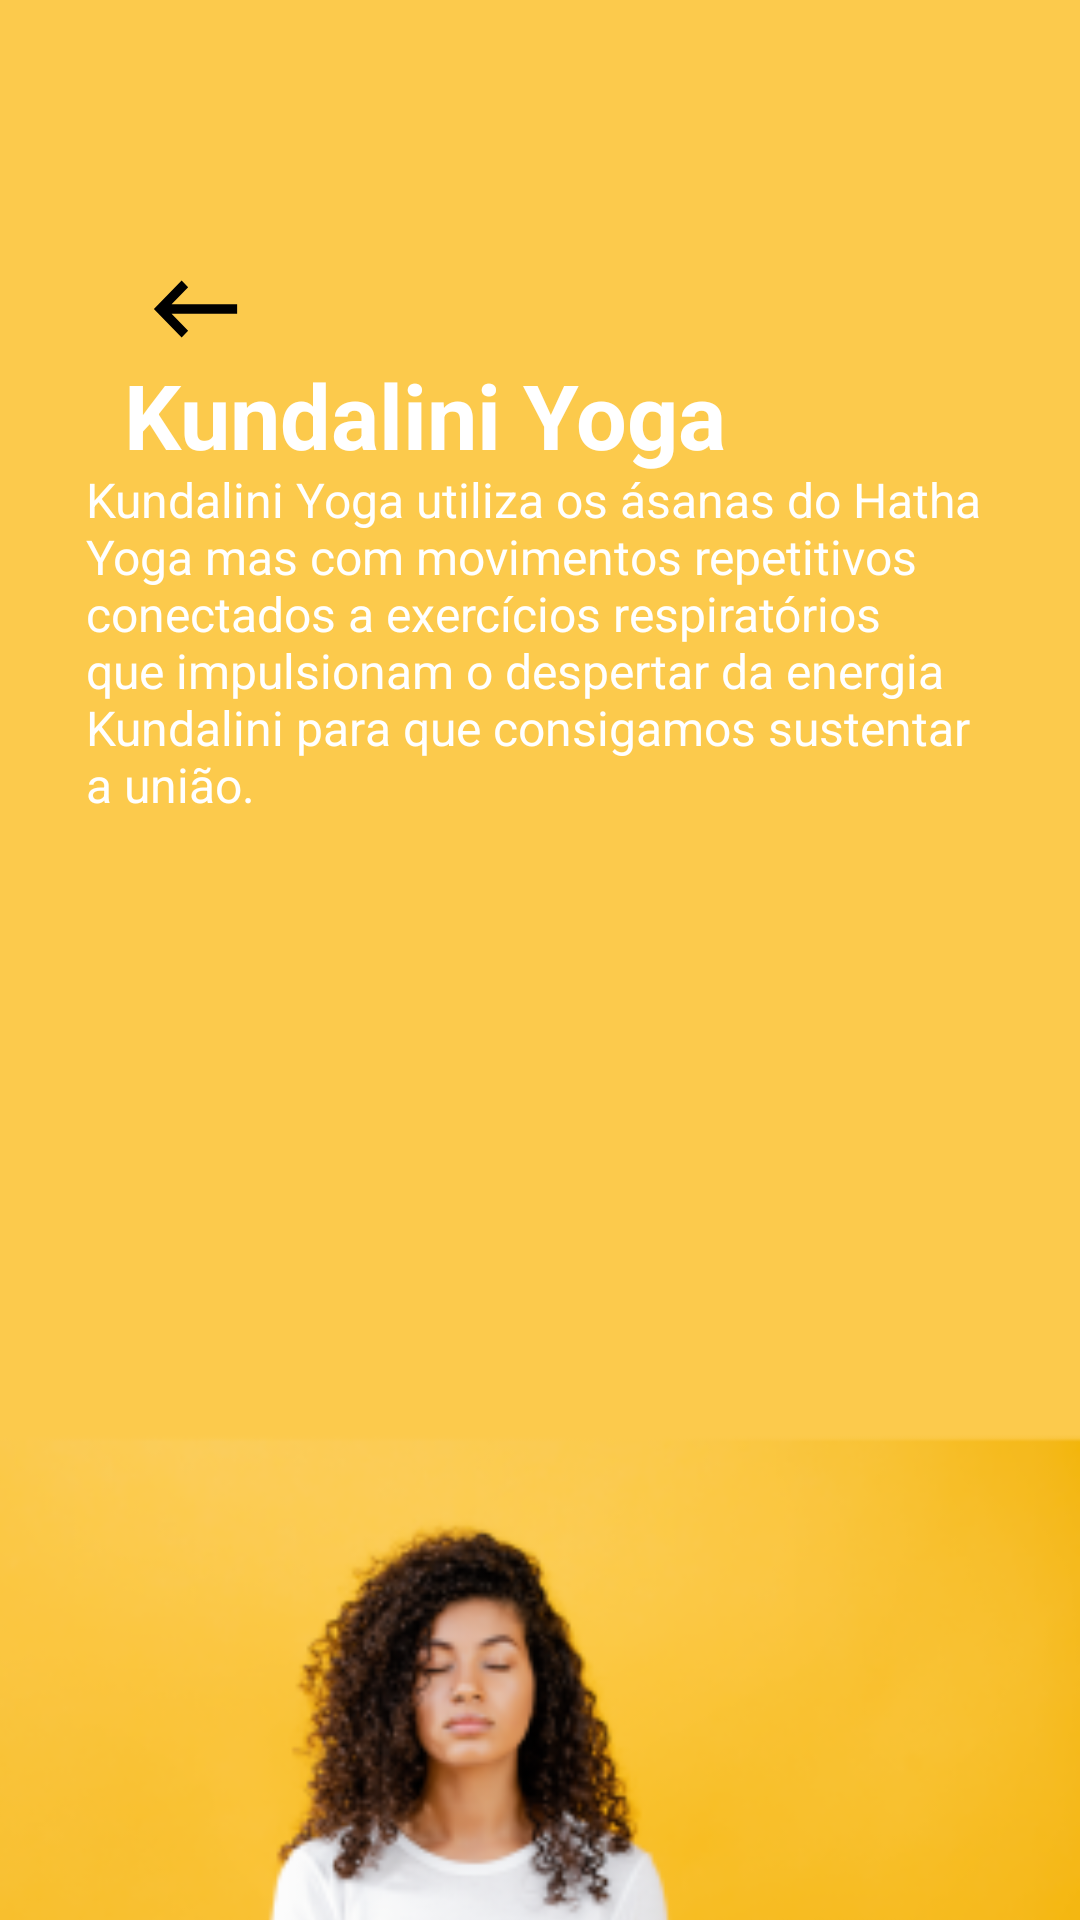

Screen size 1080w x 1920h. Icon name, then its center in pixels as (x=x, y=y):
seta: (x=196, y=309)
